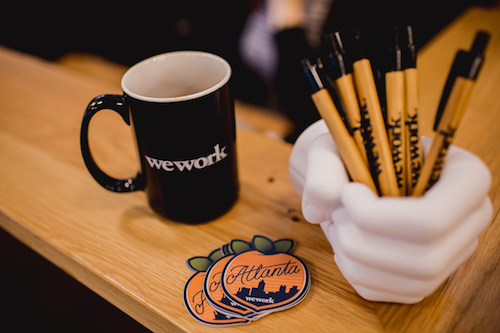wework: (143, 142, 230, 173), (244, 293, 277, 304)
